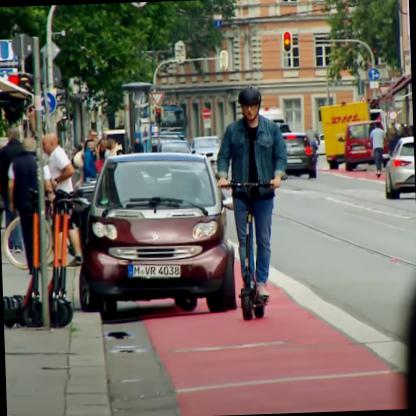helmet: (233, 87, 269, 124)
human: (218, 87, 287, 296)
kickboard: (233, 289, 270, 326)
